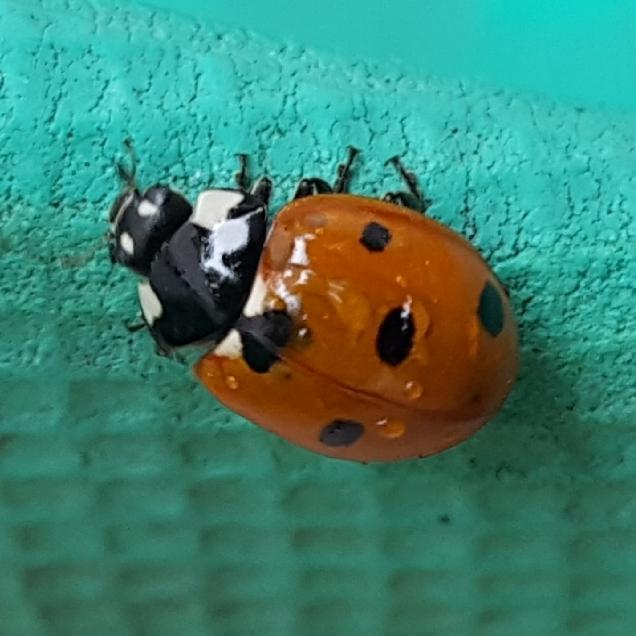ladybug: (104, 138, 524, 468)
